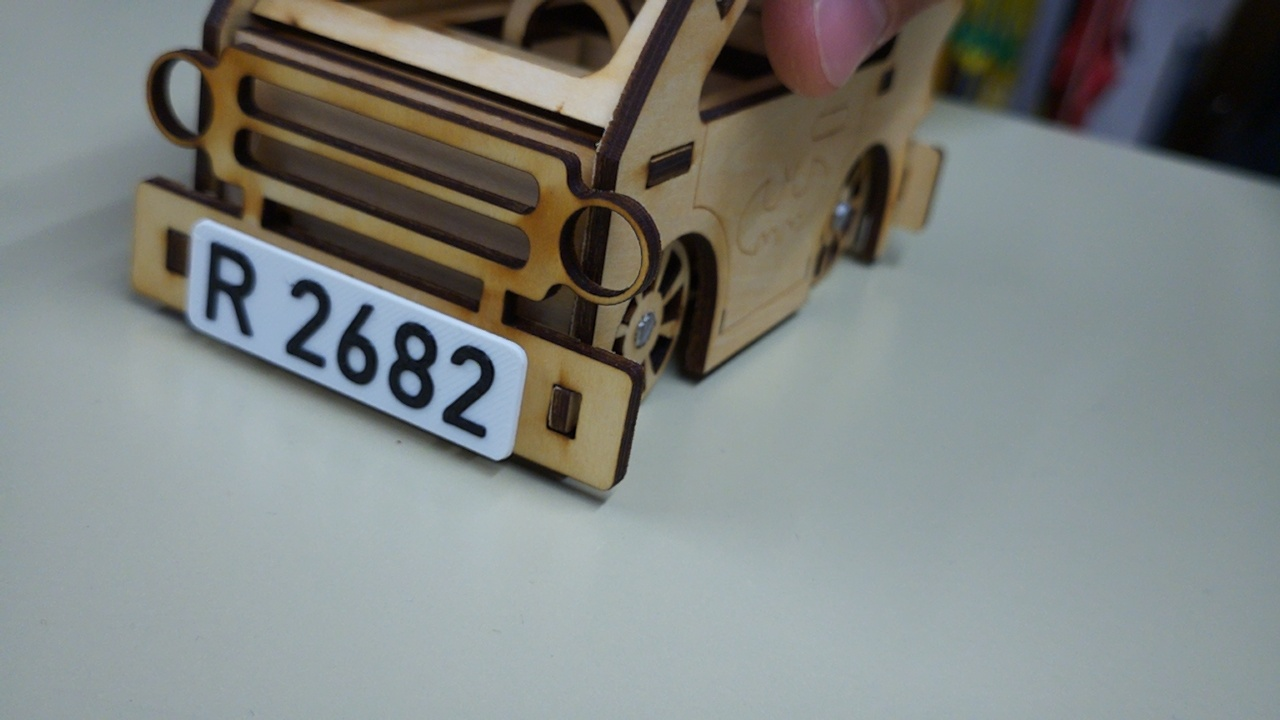license_plate: (185, 216, 530, 465)
